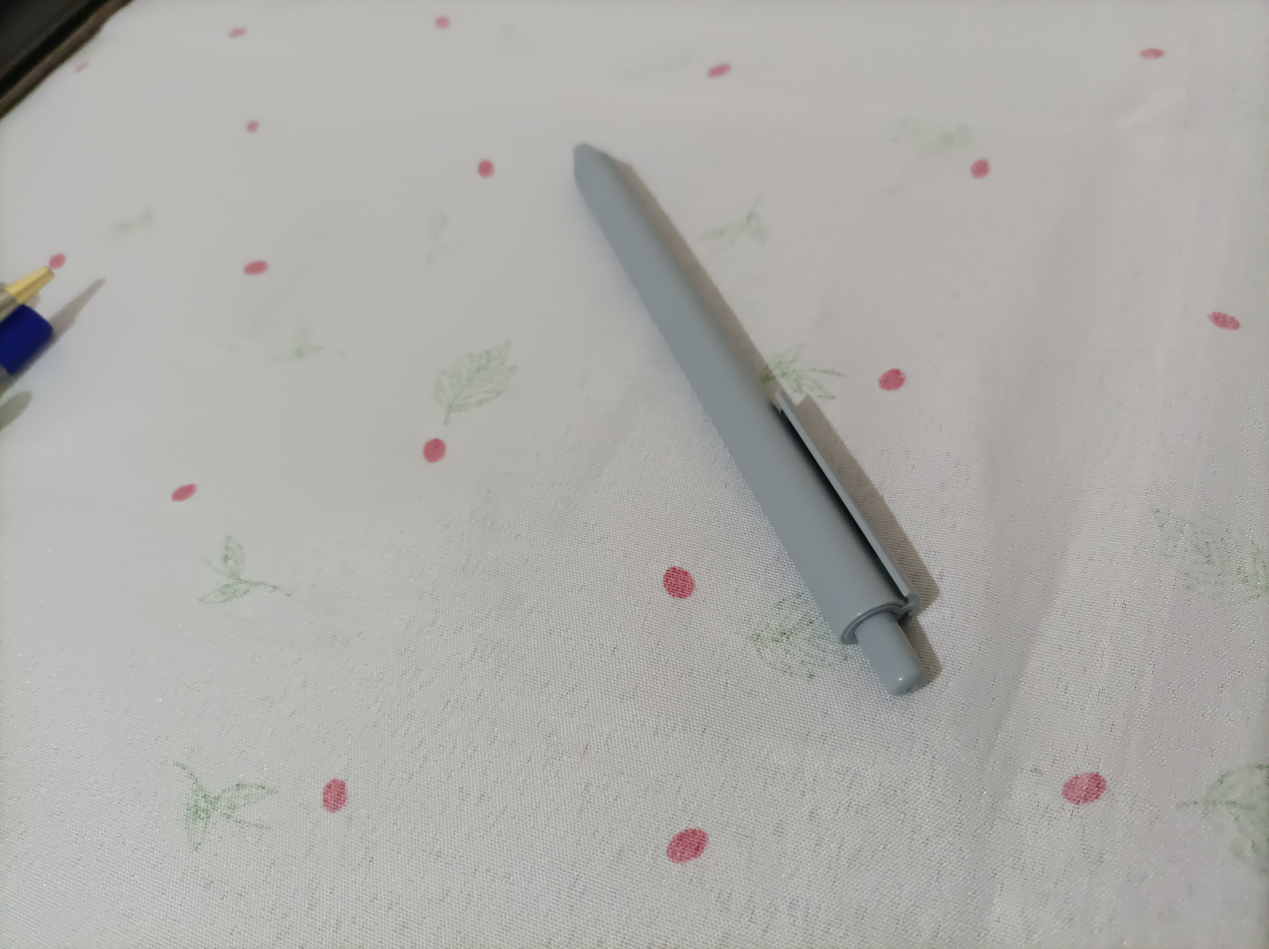plastic: (578, 152, 943, 704)
